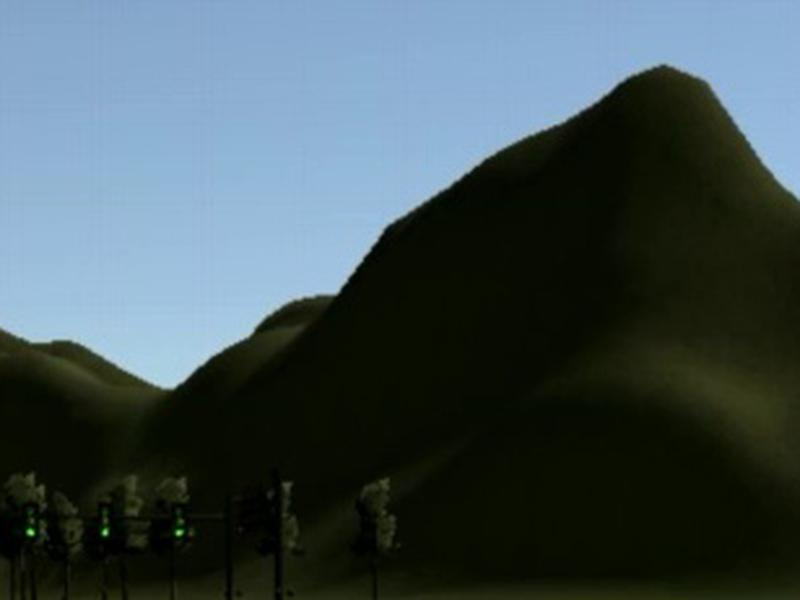Green: (22, 500, 41, 542), (170, 502, 189, 540), (97, 502, 115, 541)
